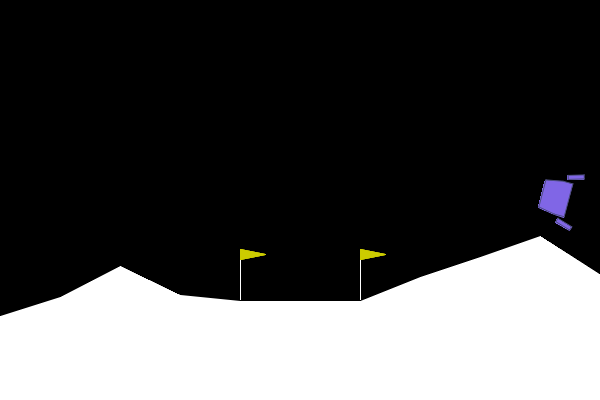lander: (532, 164, 586, 233)
